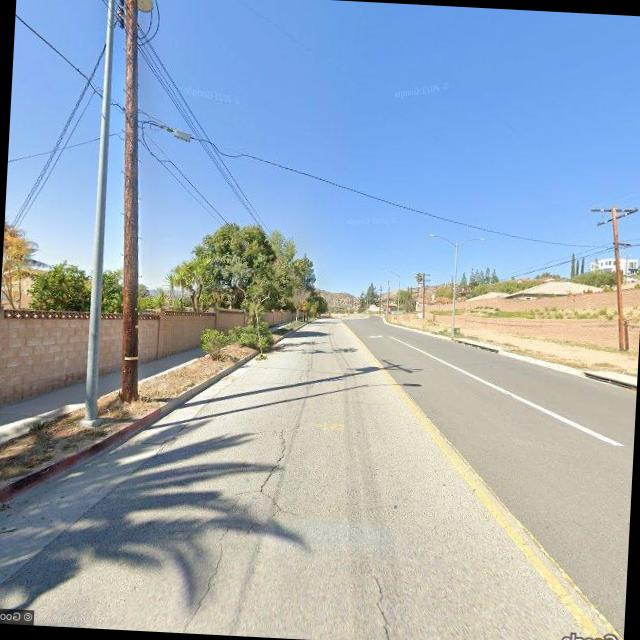pothole: (185, 414, 293, 632), (351, 554, 400, 640)
